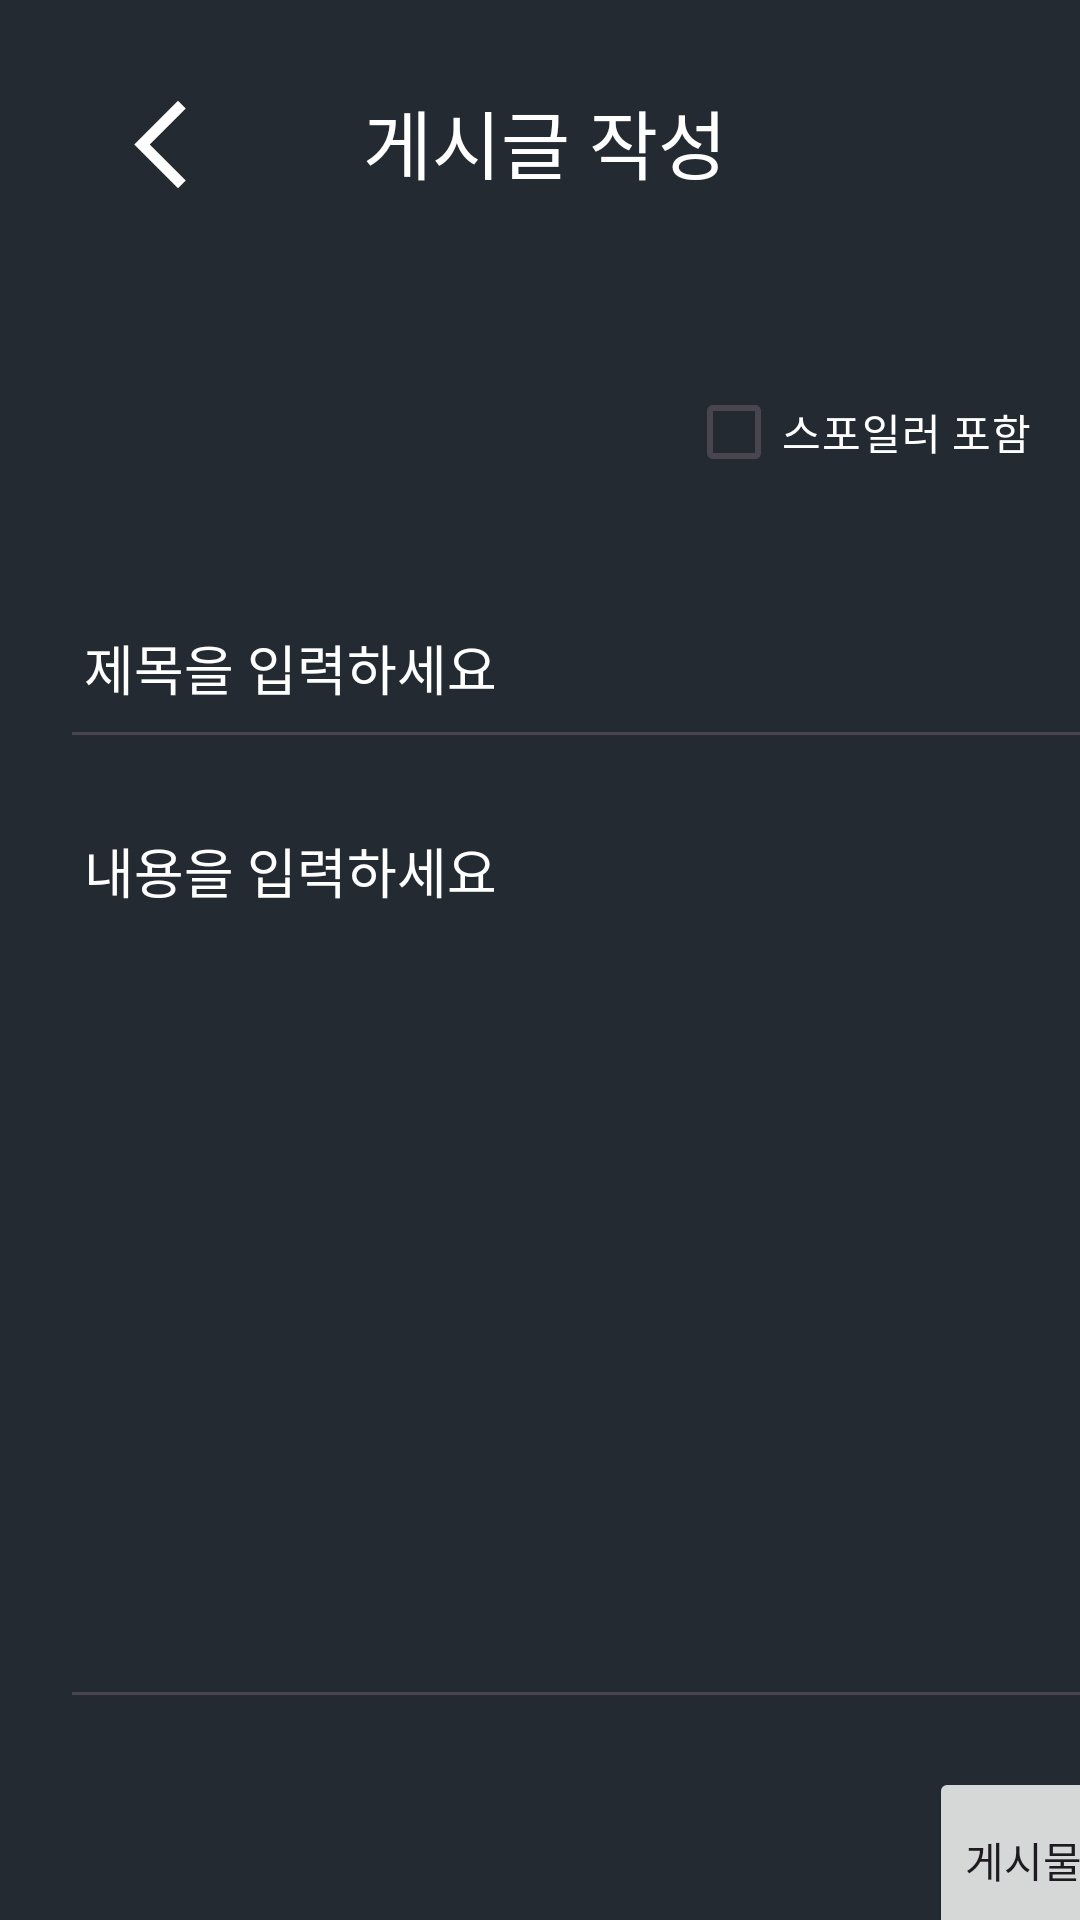

Icon click points for this 1080px x 1920px phone screenshot, format [x,y]:
arrow back: [160,144]
